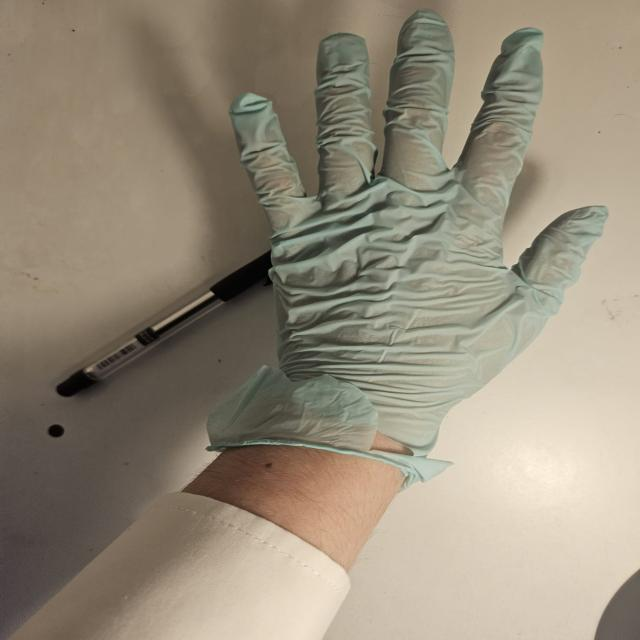gloves_damaged: (203, 14, 610, 485)
